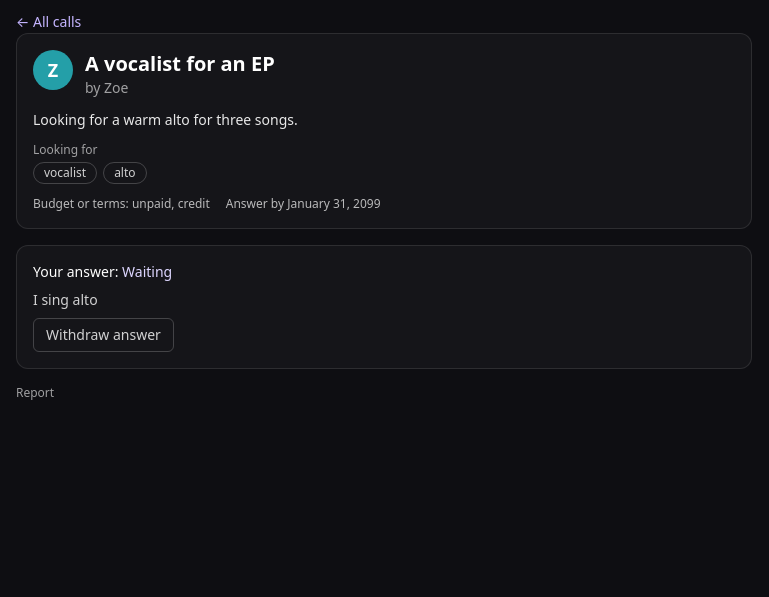
Test: CallPage: someone else's call › shows how your answer went, with the owner's note, and lets you withdraw one that is waiting
What coordinates should you click on to do the following:
click the button "Withdraw answer"
I would click on:
 (103, 335)
Its box is [33,318,174,352].
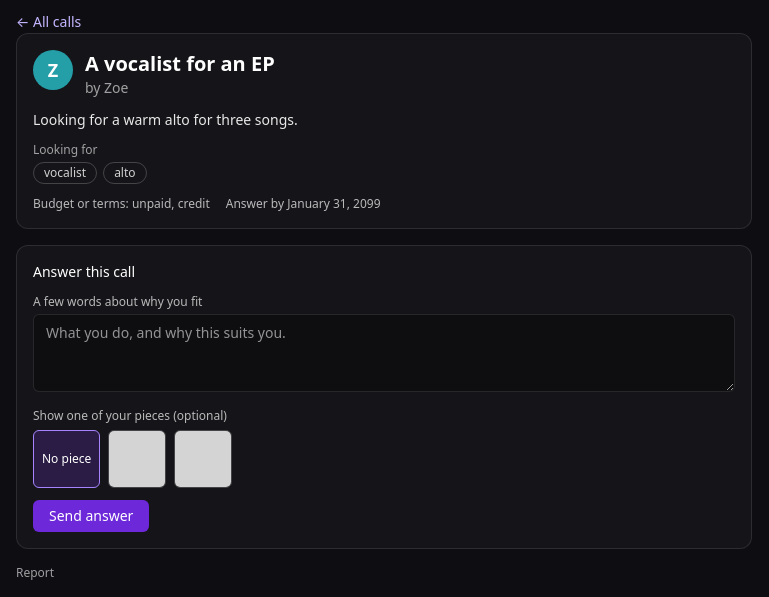
Result: the button "Send answer" is shown at [33,500,149,532]
